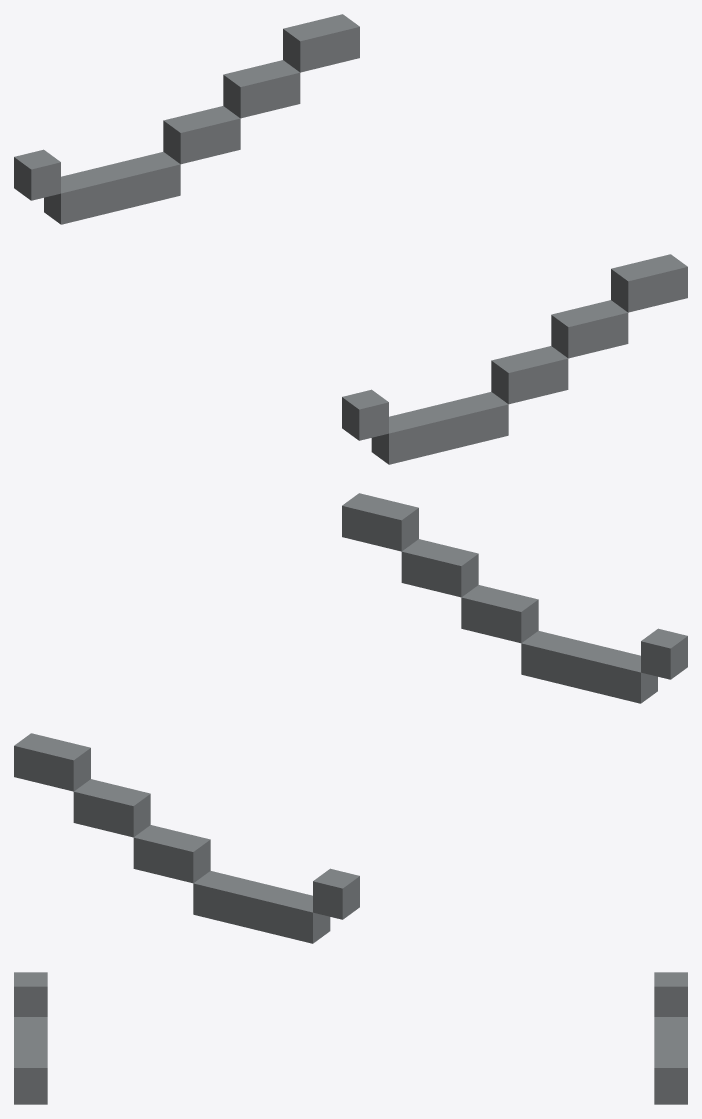
The model's file is Bag-6.obj.
The picture shows the model from 3 angles, top to bottom: view 1: azimuth 30°, elevation 25°; view 2: azimuth 150°, elevation 25°; view 3: azimuth 270°, elevation 25°; orthographic projection. The views are drawn at different scales.
Bounding box in the file's own units: 1.1 × 0.4 × 2.
Materials: 1 (1 with a texture image).
